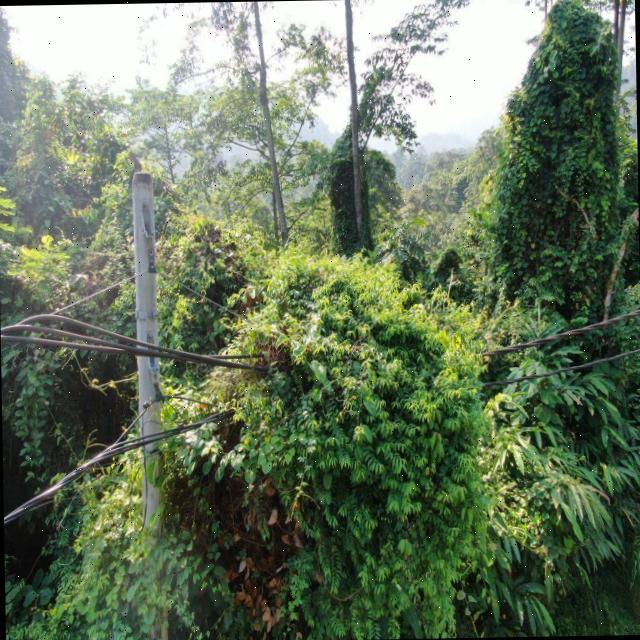critical vegetation: (217, 258, 494, 544)
